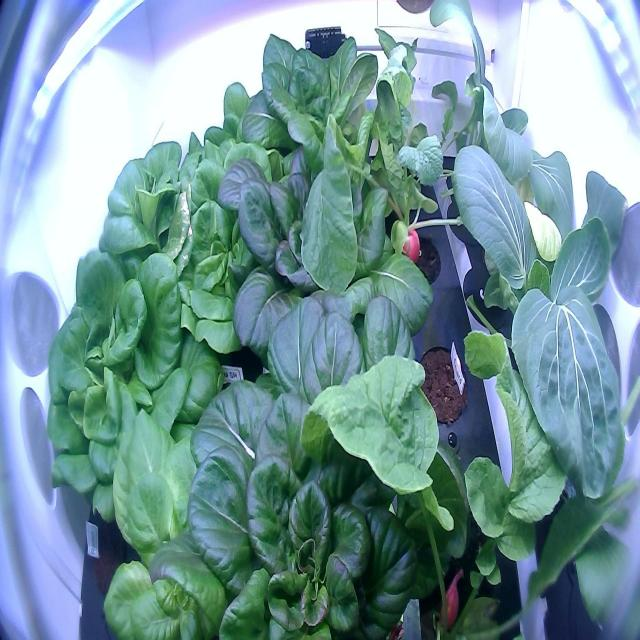Ready: (142, 307, 432, 640), (203, 130, 444, 396), (34, 226, 230, 526), (232, 27, 399, 210), (78, 126, 213, 308), (174, 167, 290, 358), (183, 62, 295, 224)
pod: (404, 334, 471, 430)
young: (98, 402, 276, 640)
